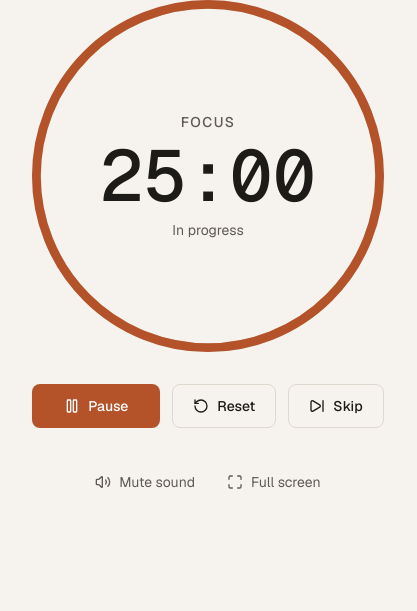
Timer › keeps the timer and shows a retryable message when the network fails
Click the button "Pause": click(96, 406) x1=32 y1=384 x2=160 y2=428
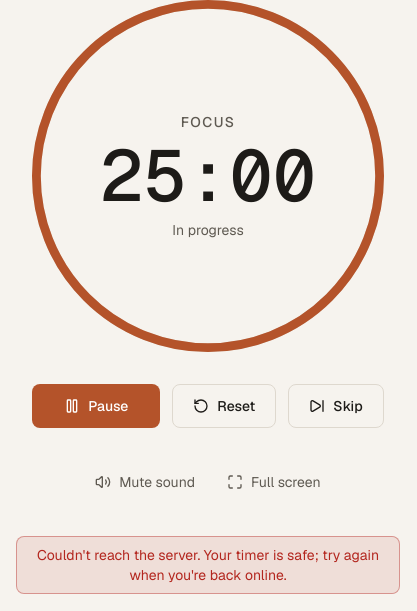
Expected: the message shows "Couldn't reach the server", x1=37 y1=546 x2=379 y2=584
